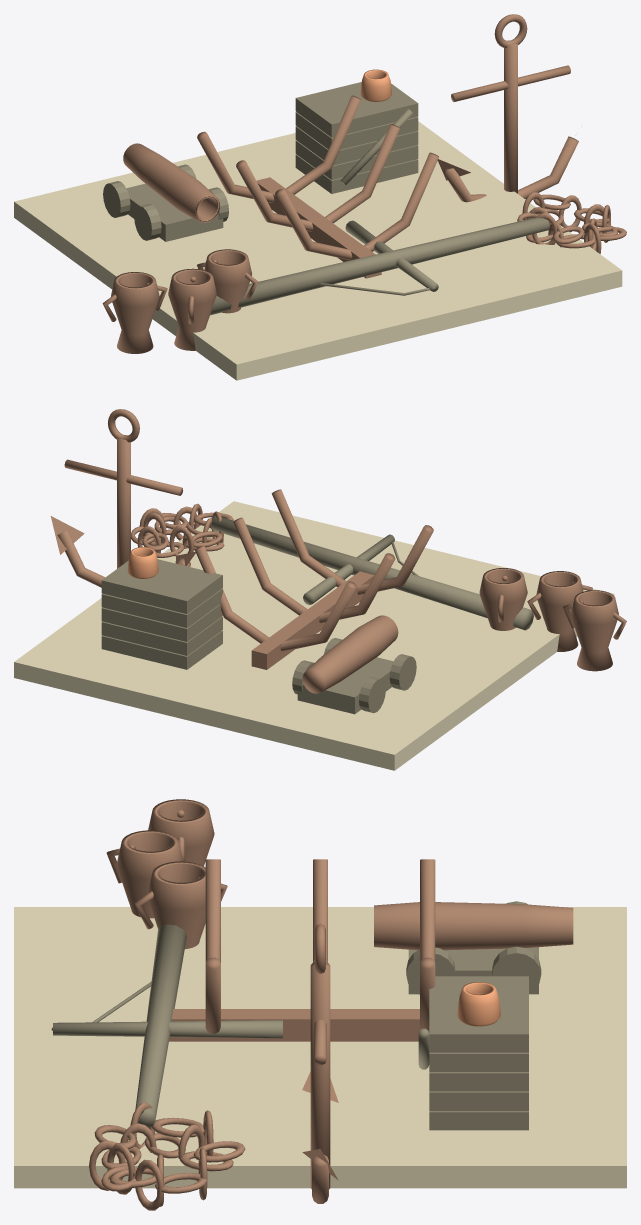
The model's file is underwater-reef-worlds-wreck-site-b88fe53a__7078.glb.
3 views of the same model, one above another, from view 1: azimuth 30°, elevation 25°; view 2: azimuth 150°, elevation 25°; view 3: azimuth 270°, elevation 25° (orthographic). The views are drawn at different scales.
Visible parts, largest first — view 1: 000-flat-sand-tile/0, 002-broken-mast/0, 006-encrusted-crate/4, 003-deck-cannon/1, 005-amphora-pile/0, 005-amphora-pile/3, 001-rib-frame/3, 001-rib-frame/2, 001-rib-frame/1, 001-rib-frame/0, 003-deck-cannon/0, 004-admiralty-anchor/0 (+13 smaller); view 2: 000-flat-sand-tile/0, 002-broken-mast/0, 006-encrusted-crate/4, 003-deck-cannon/1, 005-amphora-pile/0, 001-rib-frame/0, 005-amphora-pile/3, 001-rib-frame/2, 001-rib-frame/3, 005-amphora-pile/6, 001-rib-frame/1, 003-deck-cannon/0 (+12 smaller); view 3: 000-flat-sand-tile/0, 003-deck-cannon/1, 006-encrusted-crate/4, 001-rib-frame/0, 002-broken-mast/0, 005-amphora-pile/6, 004-admiralty-anchor/0, 002-broken-mast/1, 005-amphora-pile/3, 001-rib-frame/3, 005-amphora-pile/0, 001-rib-frame/1 (+16 smaller).
Part boxes in pixels (x1=…): 000-flat-sand-tile/0: x1=14, y1=121, x2=622, y2=380; 002-broken-mast/0: x1=210, y1=217, x2=549, y2=315; 006-encrusted-crate/4: x1=295, y1=82, x2=418, y2=137; 003-deck-cannon/1: x1=123, y1=143, x2=220, y2=222; 005-amphora-pile/0: x1=111, y1=272, x2=159, y2=353; 005-amphora-pile/3: x1=168, y1=268, x2=216, y2=350; 001-rib-frame/3: x1=275, y1=152, x2=438, y2=259; 001-rib-frame/2: x1=236, y1=124, x2=400, y2=231; 001-rib-frame/1: x1=197, y1=95, x2=360, y2=202; 001-rib-frame/0: x1=256, y1=177, x2=381, y2=278; 003-deck-cannon/0: x1=126, y1=183, x2=223, y2=241; 004-admiralty-anchor/0: x1=504, y1=40, x2=517, y2=193; 000-flat-sand-tile/0: x1=14, y1=501, x2=614, y2=770; 002-broken-mast/0: x1=211, y1=516, x2=533, y2=630; 006-encrusted-crate/4: x1=101, y1=559, x2=222, y2=613; 003-deck-cannon/1: x1=302, y1=615, x2=398, y2=693; 005-amphora-pile/0: x1=571, y1=590, x2=618, y2=671; 001-rib-frame/0: x1=251, y1=571, x2=373, y2=669; 005-amphora-pile/3: x1=536, y1=571, x2=583, y2=651; 001-rib-frame/2: x1=233, y1=517, x2=395, y2=623; 001-rib-frame/3: x1=271, y1=489, x2=433, y2=595; 005-amphora-pile/6: x1=479, y1=568, x2=527, y2=630; 001-rib-frame/1: x1=195, y1=545, x2=356, y2=651; 003-deck-cannon/0: x1=297, y1=657, x2=393, y2=714; 000-flat-sand-tile/0: x1=14, y1=907, x2=626, y2=1188; 003-deck-cannon/1: x1=374, y1=902, x2=573, y2=950; 006-encrusted-crate/4: x1=429, y1=976, x2=528, y2=1052; 001-rib-frame/0: x1=169, y1=1009, x2=420, y2=1041; 002-broken-mast/0: x1=135, y1=924, x2=186, y2=1127; 005-amphora-pile/6: x1=147, y1=861, x2=205, y2=949; 004-admiralty-anchor/0: x1=310, y1=962, x2=330, y2=1189; 002-broken-mast/1: x1=53, y1=1020, x2=282, y2=1038; 005-amphora-pile/3: x1=116, y1=830, x2=183, y2=918; 001-rib-frame/3: x1=205, y1=859, x2=220, y2=1033; 005-amphora-pile/0: x1=148, y1=799, x2=214, y2=865; 001-rib-frame/1: x1=420, y1=859, x2=435, y2=1032.
Size of the model in its own units: 5.53 by 1.89 by 4.
